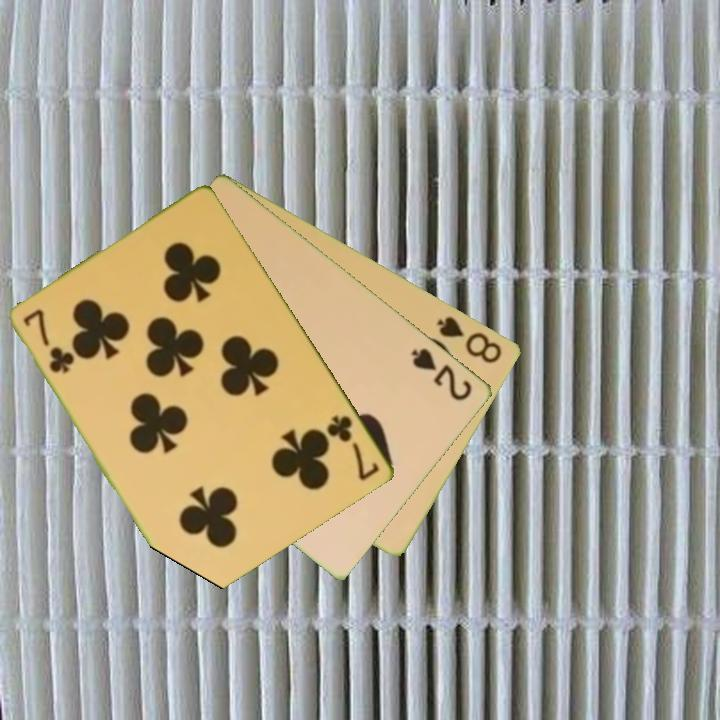2s: (408, 344, 476, 404)
7c: (324, 411, 383, 484), (20, 306, 76, 377)
8s: (433, 312, 506, 366)
